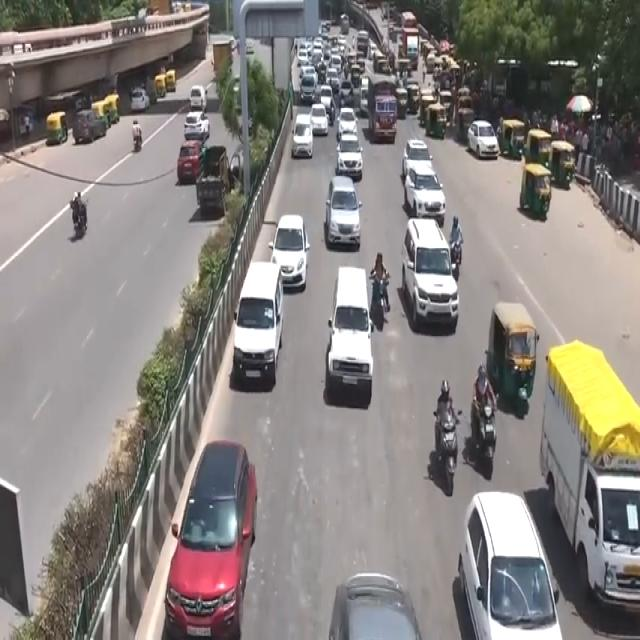MOTORCYCLE: (433, 414, 462, 500), (475, 399, 501, 482), (374, 277, 391, 330)
TRUCK: (540, 338, 639, 620), (363, 77, 395, 146)
